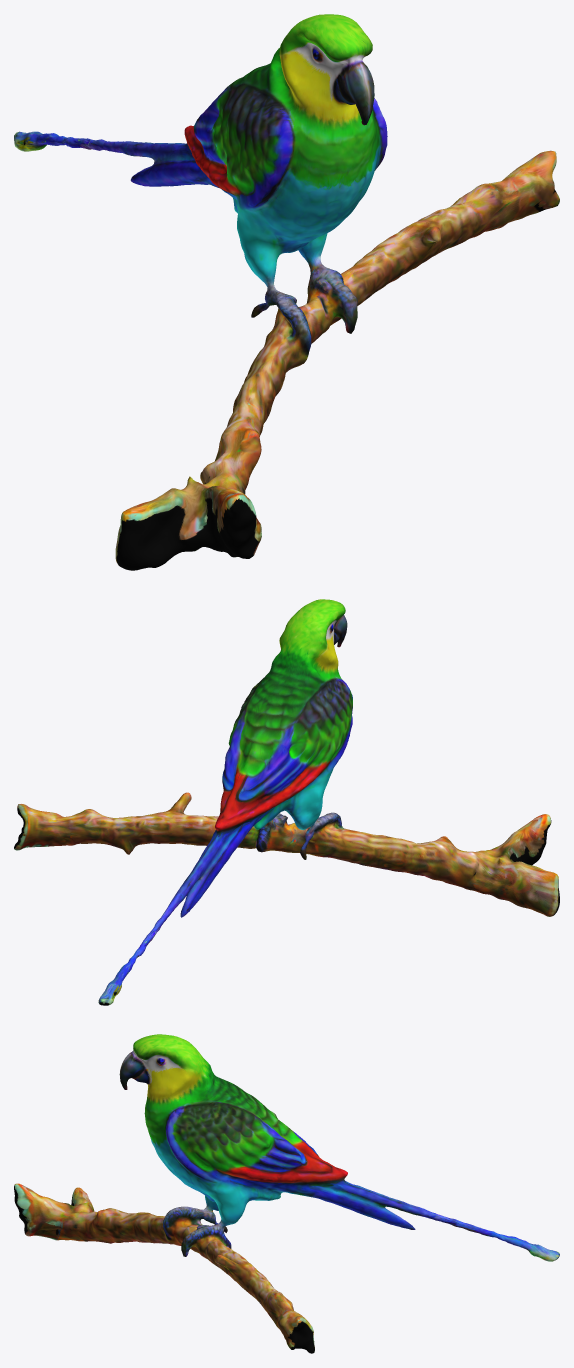
File: parrot.glb
The picture shows the model from 3 angles, top to bottom: view 1: azimuth 30°, elevation 25°; view 2: azimuth 150°, elevation 25°; view 3: azimuth 270°, elevation 25°; orthographic projection. The views are drawn at different scales.
Parts seen in each view (by area): view 1: Object_2; view 2: Object_2; view 3: Object_2.
Boxes of the visible parts, x1,y1,x2,y2 form: Object_2: (14,14,559,570); Object_2: (14,599,559,1005); Object_2: (14,1034,559,1353).
Bounding box in the file's own units: 2.02 × 1.37 × 2.49.
1 material, 1 textured.
